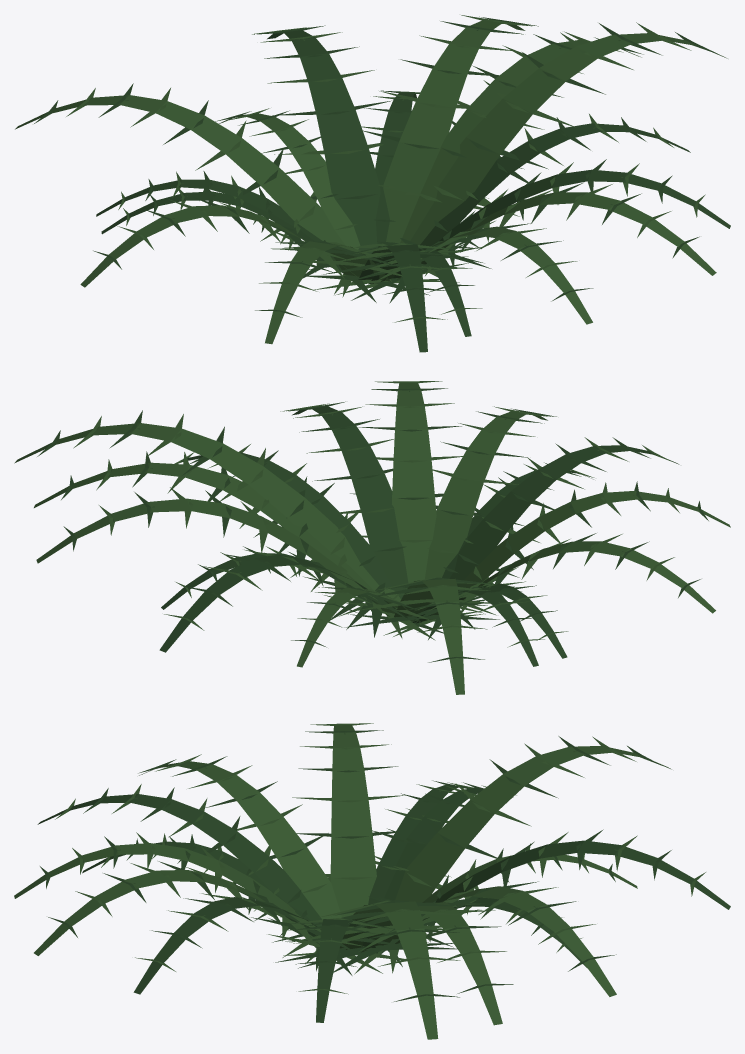
Rendered from detail_fern.glb.
3 views of the same model, one above another, from view 1: azimuth 30°, elevation 25°; view 2: azimuth 150°, elevation 25°; view 3: azimuth 270°, elevation 25° (orthographic). The views are drawn at different scales.
Visible parts, largest first — view 1: Fern; view 2: Fern; view 3: Fern.
Boxes of the visible parts, x1,y1,x2,y2 form: Fern: [15, 15, 730, 352]; Fern: [14, 381, 730, 694]; Fern: [14, 723, 730, 1039].
Size of the model in its own units: 1.65 by 0.358 by 1.49.
